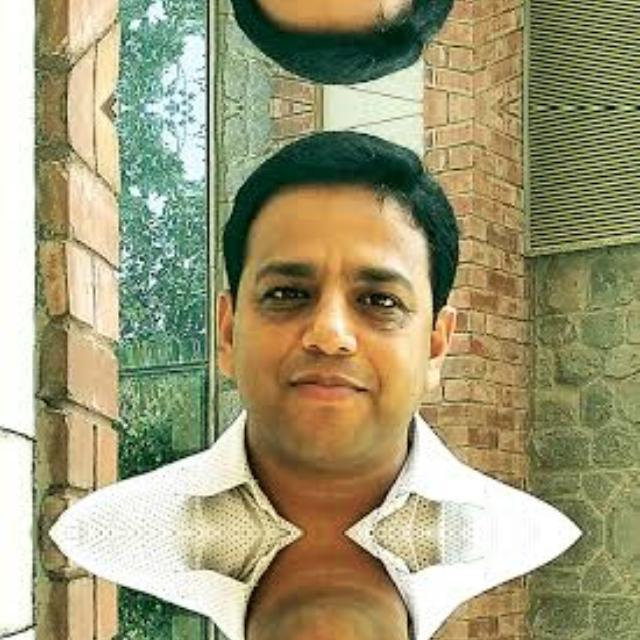person: (68, 119, 580, 534), (67, 532, 580, 640), (67, 0, 580, 95)
